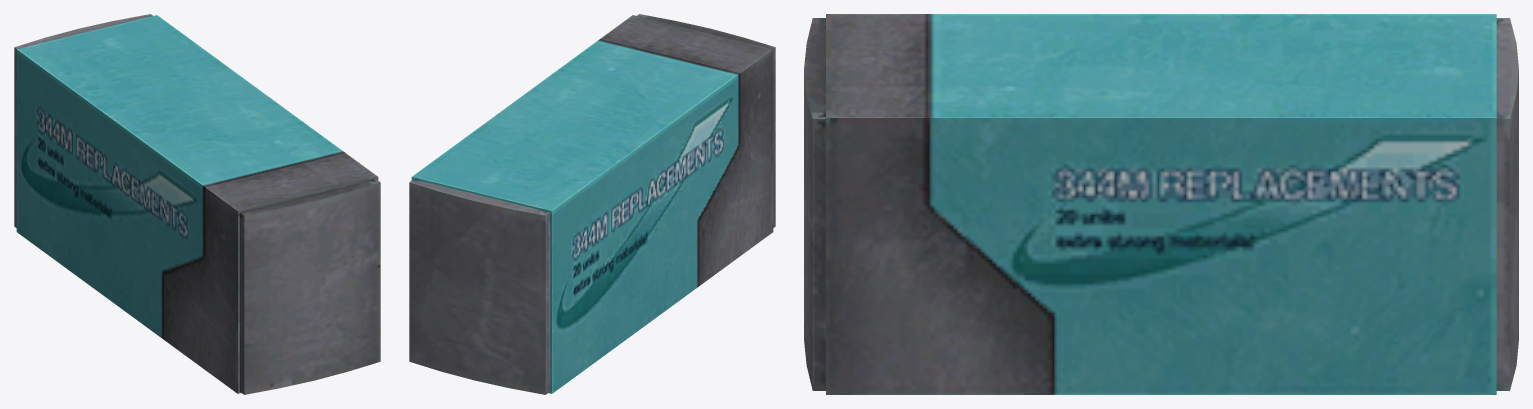
File: box_replacements02.DAE
3 views of the same model, side by side, from view 1: azimuth 30°, elevation 25°; view 2: azimuth 150°, elevation 25°; view 3: azimuth 270°, elevation 25° (orthographic). The views are drawn at different scales.
Parts seen in each view (by area): view 1: box_replacements02; view 2: box_replacements02; view 3: box_replacements02.
Boxes of the visible parts, left/top/right/bottom form: box_replacements02: left=14, top=14, right=380, bottom=394; box_replacements02: left=409, top=14, right=775, bottom=394; box_replacements02: left=804, top=14, right=1518, bottom=394.
Size of the model in its own units: 3.39 by 4.22 by 9.86.
